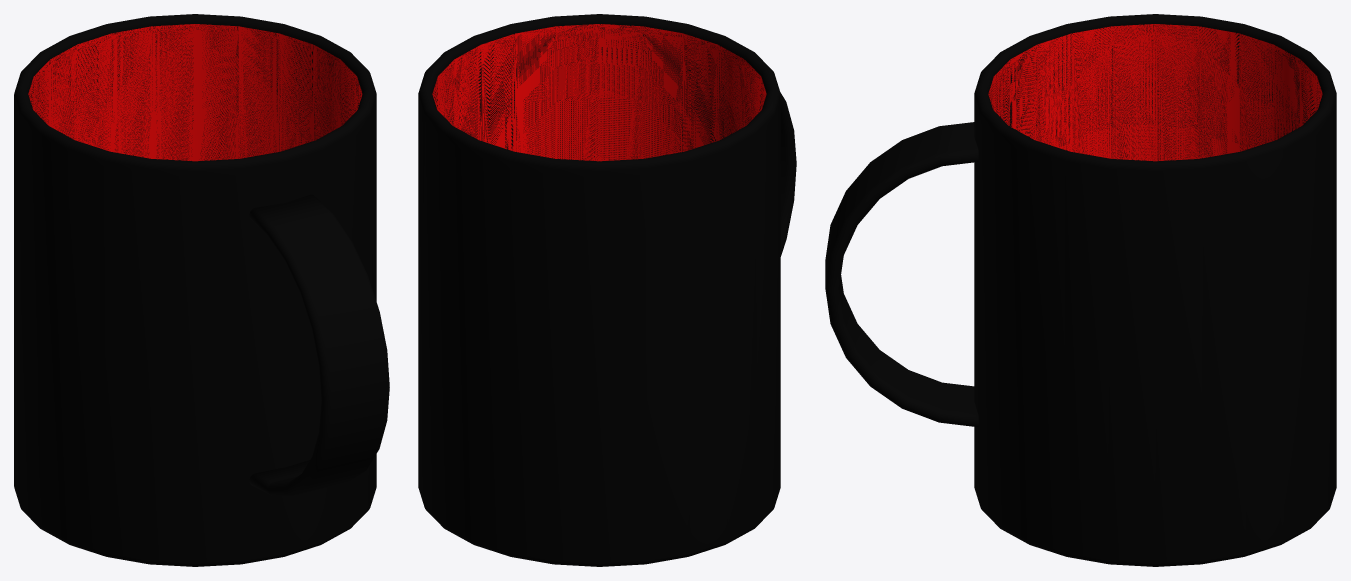
File: mug_07_origin_gt_4.dae
3 renders of one model, left to right at view 1: azimuth 30°, elevation 25°; view 2: azimuth 150°, elevation 25°; view 3: azimuth 270°, elevation 25°, orthographic.
Parts seen in each view (by area): view 1: group_2 (×2), group_1; view 2: group_2 (×2), group_1; view 3: group_2 (×2), group_1.
Part boxes in pixels (x1=…): group_2 (×2): x1=14, y1=14, x2=376, y2=566; group_1: x1=249, y1=194, x2=389, y2=495; group_2 (×2): x1=418, y1=14, x2=780, y2=566; group_1: x1=780, y1=92, x2=796, y2=256; group_2 (×2): x1=974, y1=14, x2=1336, y2=566; group_1: x1=825, y1=122, x2=978, y2=427.
Size of the model in its own units: 3.25 by 4.59 by 4.
